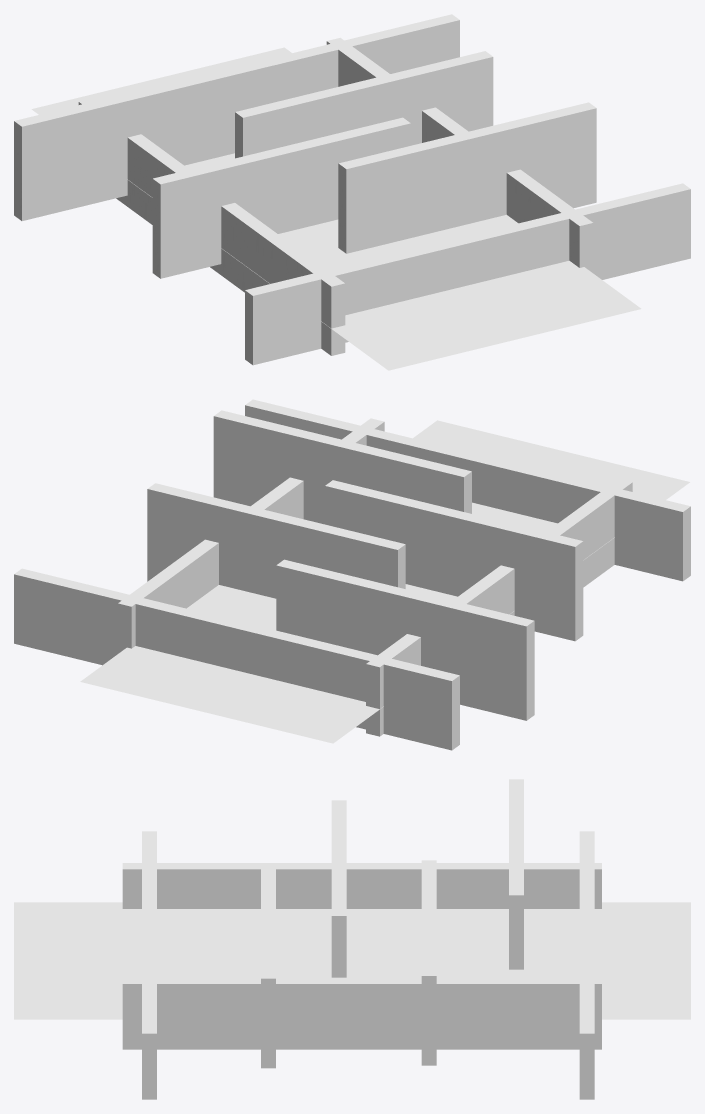
Rendered from map.obj.
3 views of the same model, one above another, from view 1: azimuth 30°, elevation 25°; view 2: azimuth 150°, elevation 25°; view 3: azimuth 270°, elevation 25° (orthographic). The views are drawn at different scales.
Visible parts, largest first — view 1: Cube_(3), Quad (1), Cube_(7), Cube_(4), Cube_(6), Cube_(5), Cube, Cube_(2), Cube_(1); view 2: Cube_(2), Quad (1), Cube_(4), Cube_(6), Cube_(5), Cube_(3), Cube_(7), Cube, Cube_(1); view 3: Quad (1), Cube_(1), Cube, Cube_(2), Cube_(3), Cube_(5), Cube_(7), Cube_(4), Cube_(6).
Boxes of the visible parts, box(x1,y1,x2,y2) form: Cube_(3): box(245, 183, 690, 365); Quad (1): box(31, 47, 641, 370); Cube_(7): box(338, 102, 596, 253); Cube_(4): box(14, 60, 272, 220); Cube_(6): box(152, 117, 410, 278); Cube_(5): box(235, 51, 493, 158); Cube: box(78, 98, 345, 355); Cube_(2): box(265, 14, 459, 102); Cube_(1): box(326, 37, 593, 272); Cube_(2): box(14, 568, 459, 750); Quad (1): box(80, 420, 689, 743); Cube_(4): box(276, 559, 534, 720); Cube_(6): box(325, 480, 583, 641); Cube_(5): box(147, 483, 405, 598); Cube_(3): box(245, 399, 690, 581); Cube_(7): box(213, 410, 471, 524); Cube: box(366, 479, 632, 736); Cube_(1): box(118, 418, 384, 653); Quad (1): box(14, 902, 690, 1019); Cube_(1): box(122, 977, 601, 1049); Cube: box(122, 863, 601, 908); Cube_(2): box(579, 831, 594, 1099); Cube_(3): box(142, 831, 156, 1099); Cube_(5): box(421, 860, 436, 1065); Cube_(7): box(261, 863, 275, 1068); Cube_(4): box(509, 779, 523, 969); Cube_(6): box(331, 800, 346, 977).
Size of the model in its own units: 34.51 by 7.78 by 44.93.
